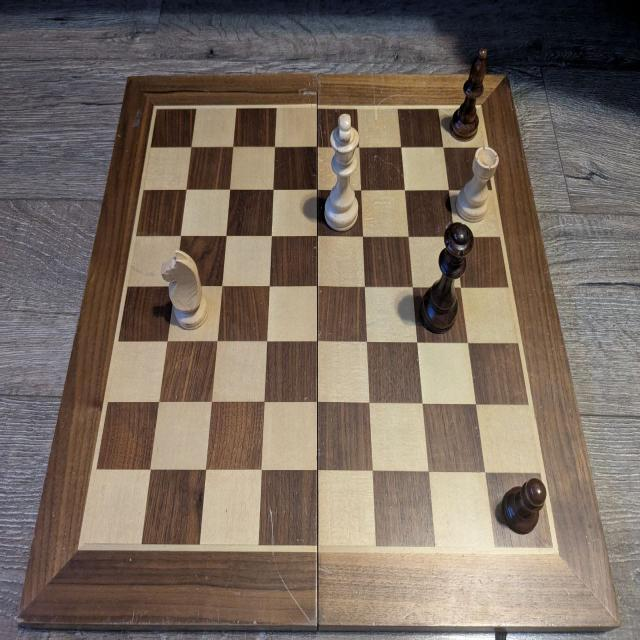black_bishop: (450, 48, 488, 143)
black_pawn: (503, 478, 547, 535)
black_queen: (422, 222, 475, 336)
white_king: (323, 114, 359, 233)
white_knight: (163, 247, 209, 332)
white_rook: (457, 144, 500, 223)
